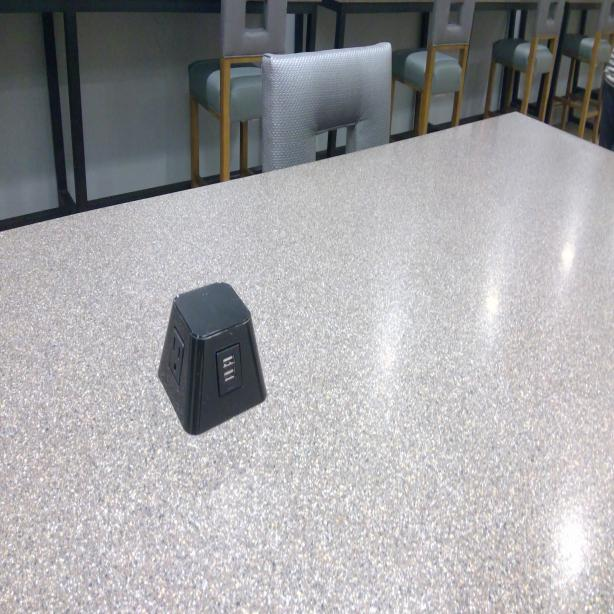typeb: (168, 332, 184, 381)
